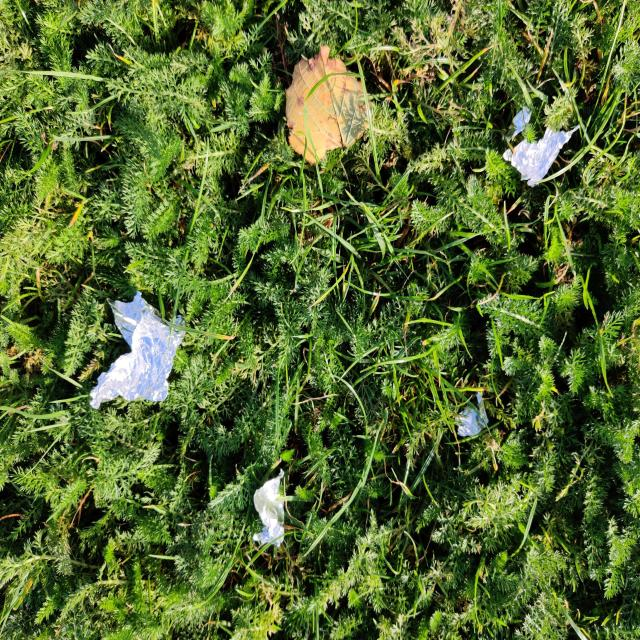litter: (86, 295, 185, 409), (503, 130, 574, 186), (252, 471, 283, 546), (452, 388, 487, 438)
